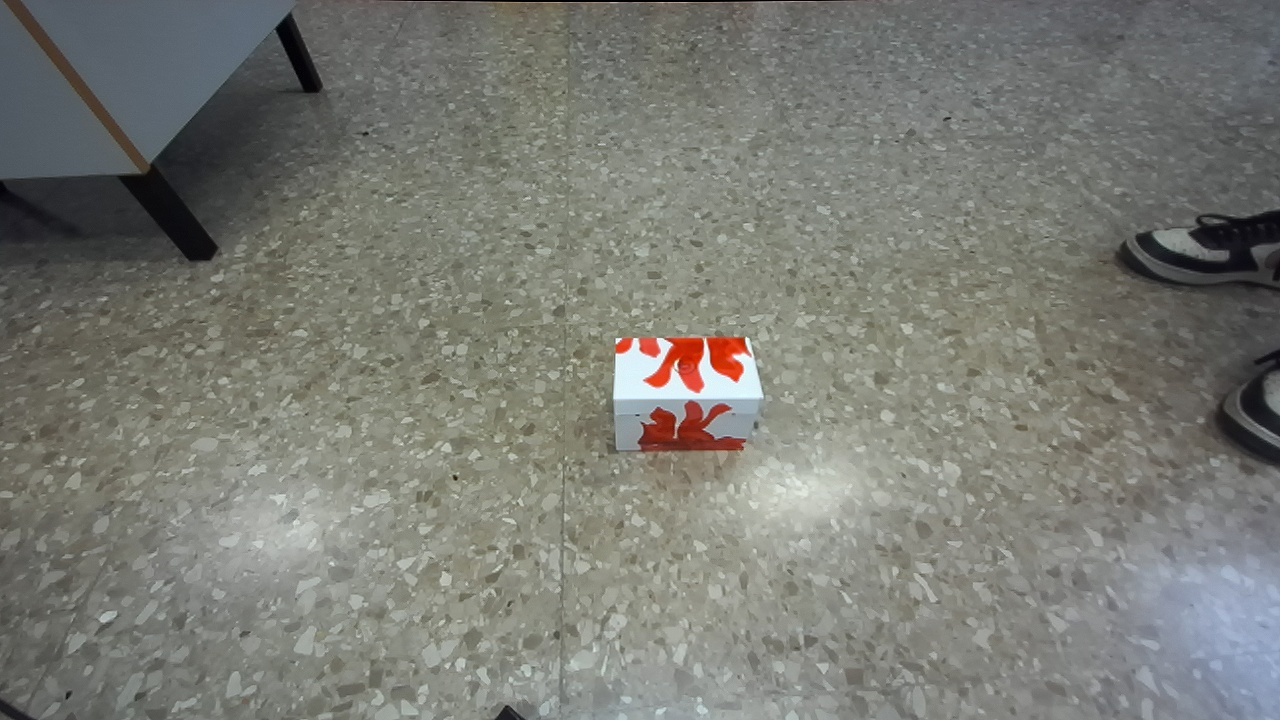caja_potencia: (611, 337, 762, 450)
